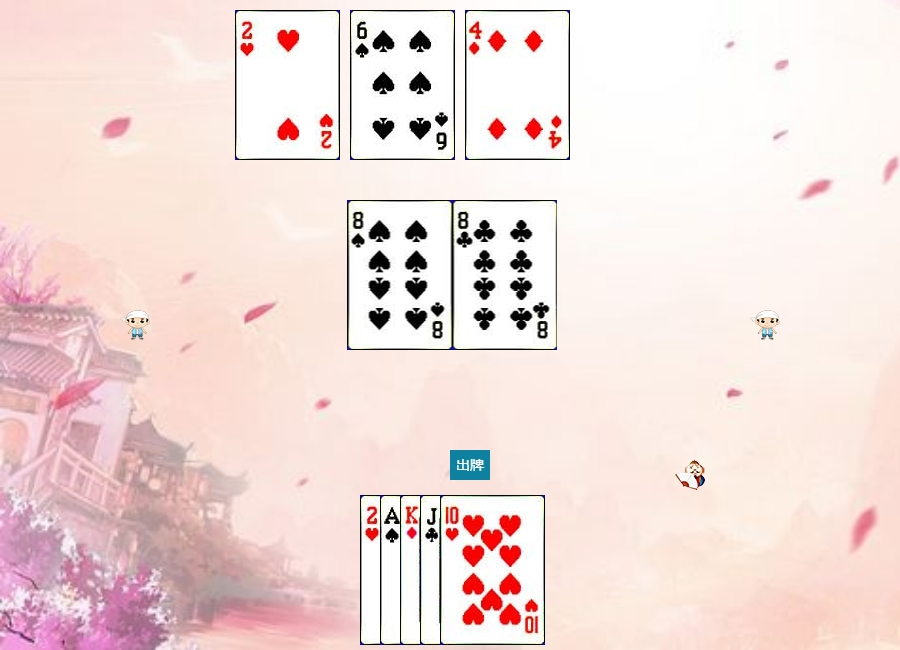10~3: (440, 495, 545, 645)
11~2: (420, 495, 525, 645)
13~1: (400, 495, 505, 645)
14~4: (380, 495, 485, 645)
15~3: (235, 10, 340, 160), (360, 495, 465, 645)
4~1: (465, 10, 570, 160)
6~4: (350, 10, 455, 160)
8~2: (453, 200, 558, 350)
8~4: (348, 200, 453, 350)
